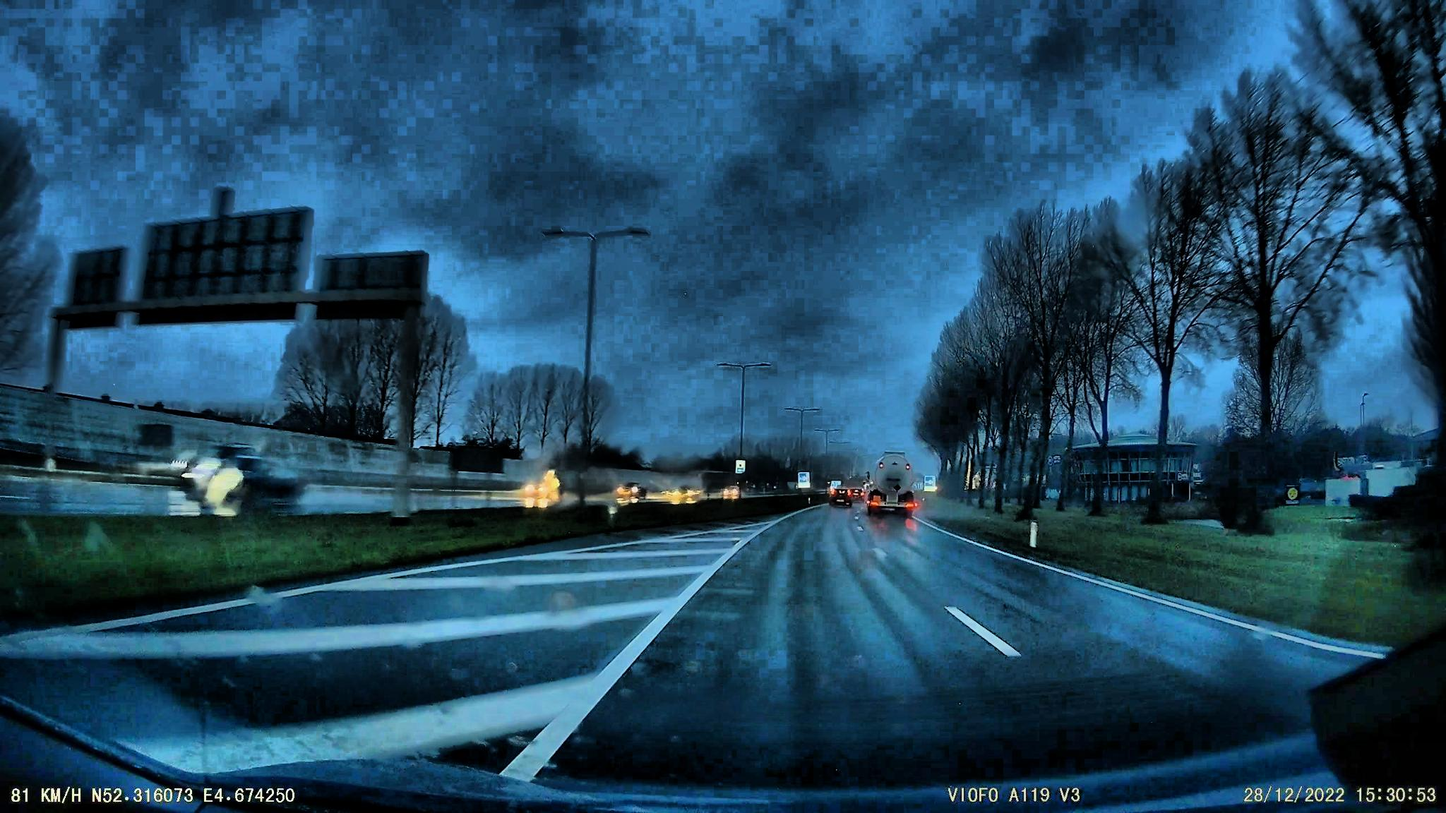Roads: (0, 506, 1393, 813)
